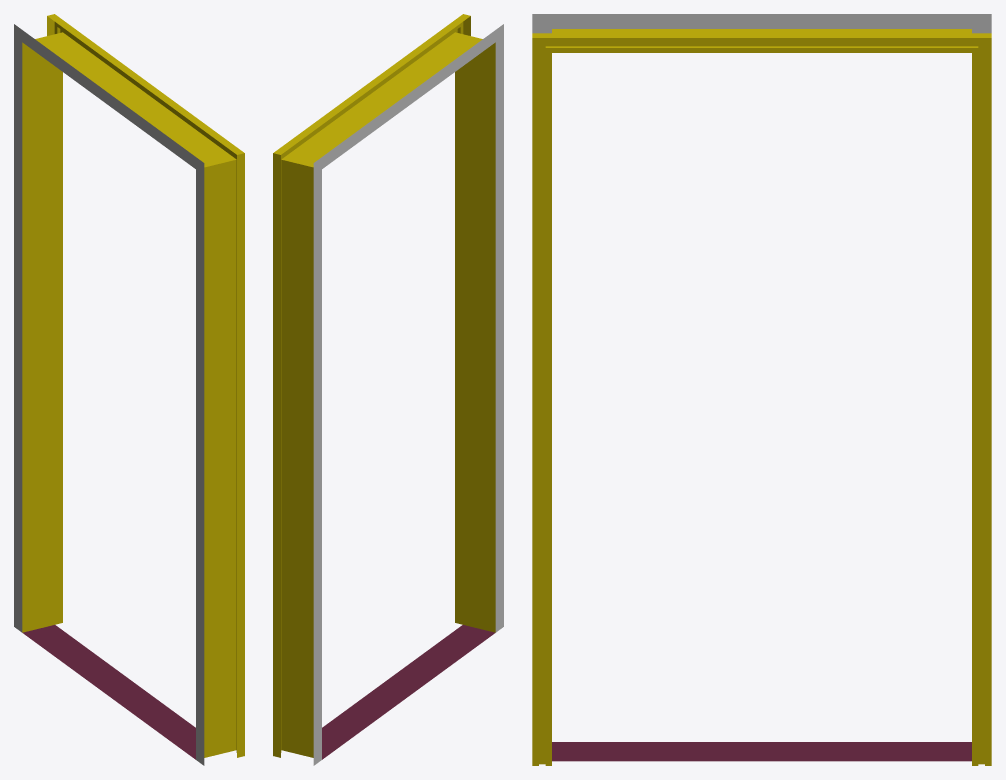
Rendered from Hallway_doorway.fbx.
3 views of the same model, side by side, from view 1: azimuth 30°, elevation 25°; view 2: azimuth 150°, elevation 25°; view 3: azimuth 270°, elevation 25° (orthographic). The views are drawn at different scales.
Parts seen in each view (by area): view 1: Hallway_doorway; view 2: Hallway_doorway; view 3: Hallway_doorway.
Boxes of the visible parts, bbox=[...] form: Hallway_doorway: bbox=[14, 14, 244, 765]; Hallway_doorway: bbox=[273, 14, 503, 765]; Hallway_doorway: bbox=[532, 14, 991, 765].
Bounding box in the file's own units: 24.7 × 350 × 200.
